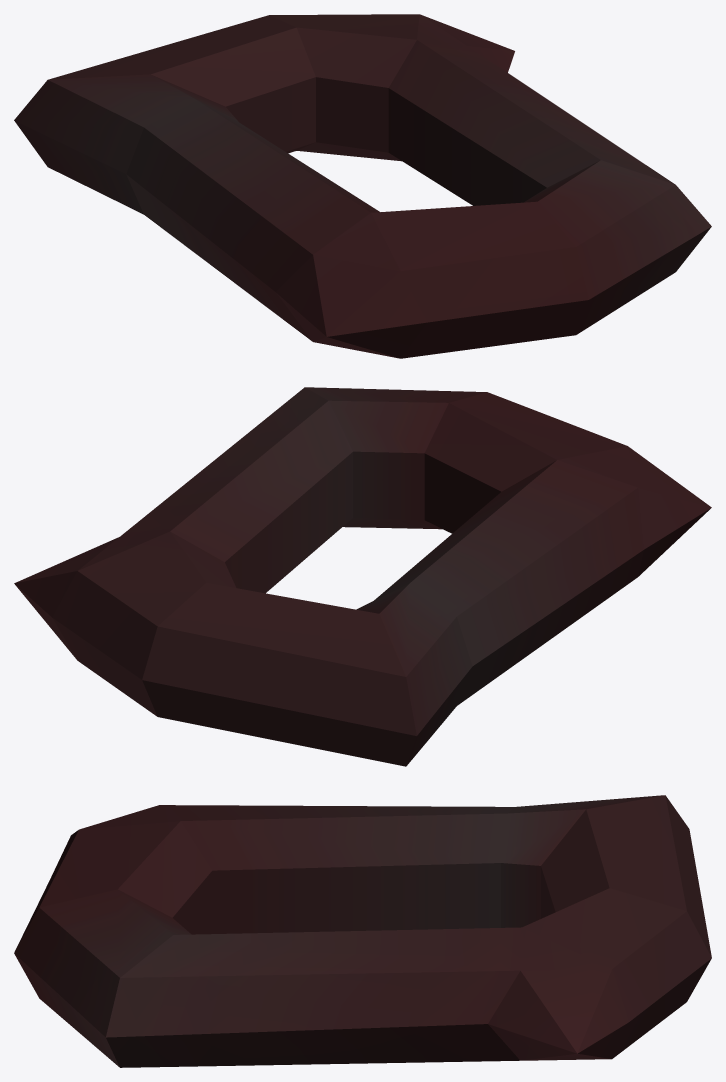
The model's file is SM_Chain_Large_02.fbx.
3 renders of one model, top to bottom at view 1: azimuth 30°, elevation 25°; view 2: azimuth 150°, elevation 25°; view 3: azimuth 270°, elevation 25°, orthographic. The views are drawn at different scales.
Parts seen in each view (by area): view 1: SM_Chain_Large_02; view 2: SM_Chain_Large_02; view 3: SM_Chain_Large_02.
Boxes of the visible parts, x1,y1,x2,y2 form: SM_Chain_Large_02: [14, 14, 711, 358]; SM_Chain_Large_02: [14, 387, 711, 766]; SM_Chain_Large_02: [14, 795, 711, 1067].
Bounding box in the file's own units: 168 × 44.18 × 220.
1 material, 1 textured.
